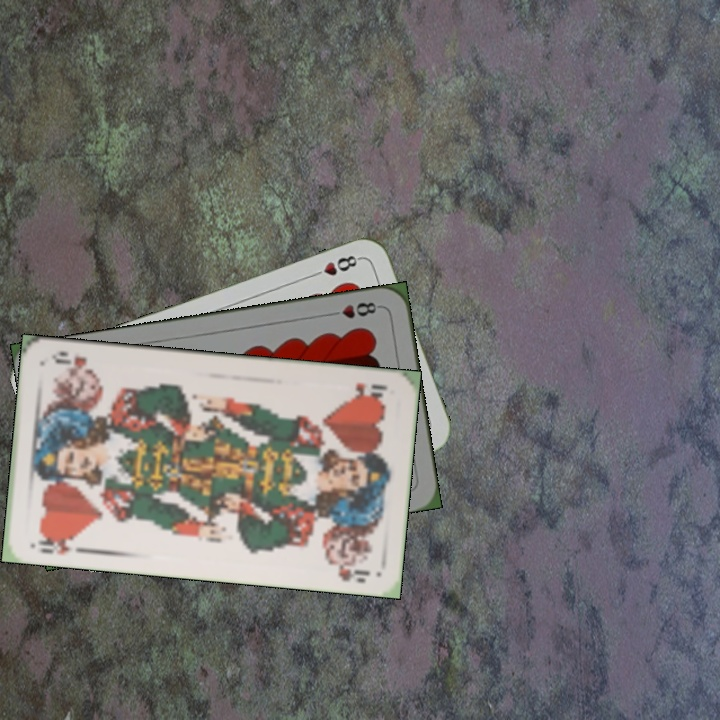H8: (307, 251, 364, 280), (324, 298, 383, 321)
HO: (34, 529, 87, 557), (350, 378, 390, 402)
